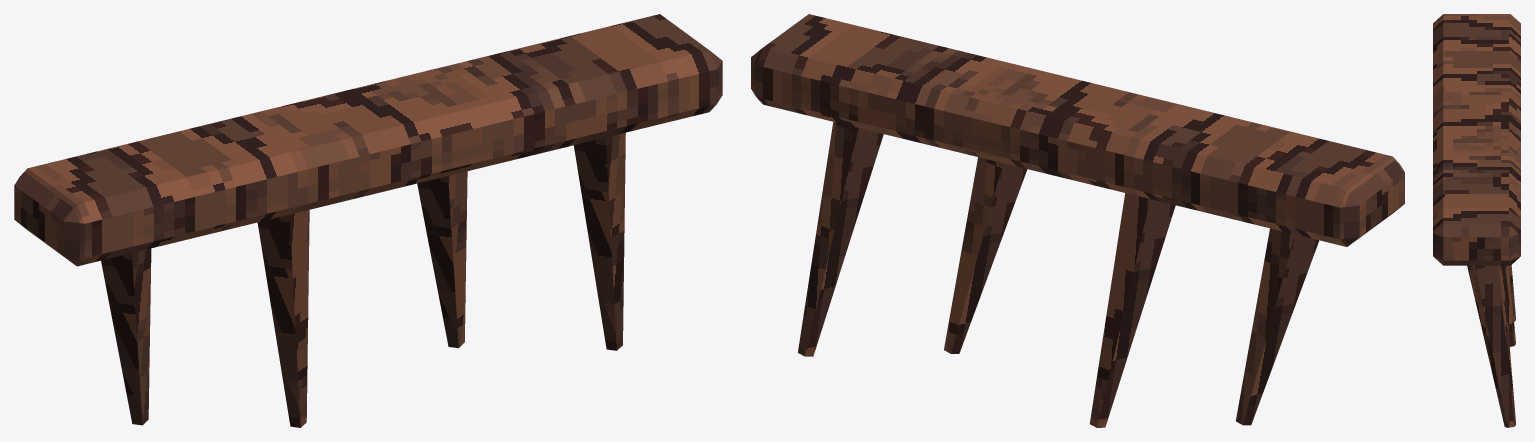
File: beira_reta.glb
3 renders of one model, left to right at view 1: azimuth 30°, elevation 25°; view 2: azimuth 150°, elevation 25°; view 3: azimuth 270°, elevation 25°, orthographic. The views are drawn at different scales.
Parts seen in each view (by area): view 1: pedreira_beira_reta; view 2: pedreira_beira_reta; view 3: pedreira_beira_reta.
Boxes of the visible parts, bbox=[...] form: pedreira_beira_reta: bbox=[14, 14, 722, 427]; pedreira_beira_reta: bbox=[751, 14, 1404, 427]; pedreira_beira_reta: bbox=[1433, 14, 1520, 427].
Size of the model in its own units: 1 by 0.4671 by 0.17.
Materials: 1 (1 with a texture image).
